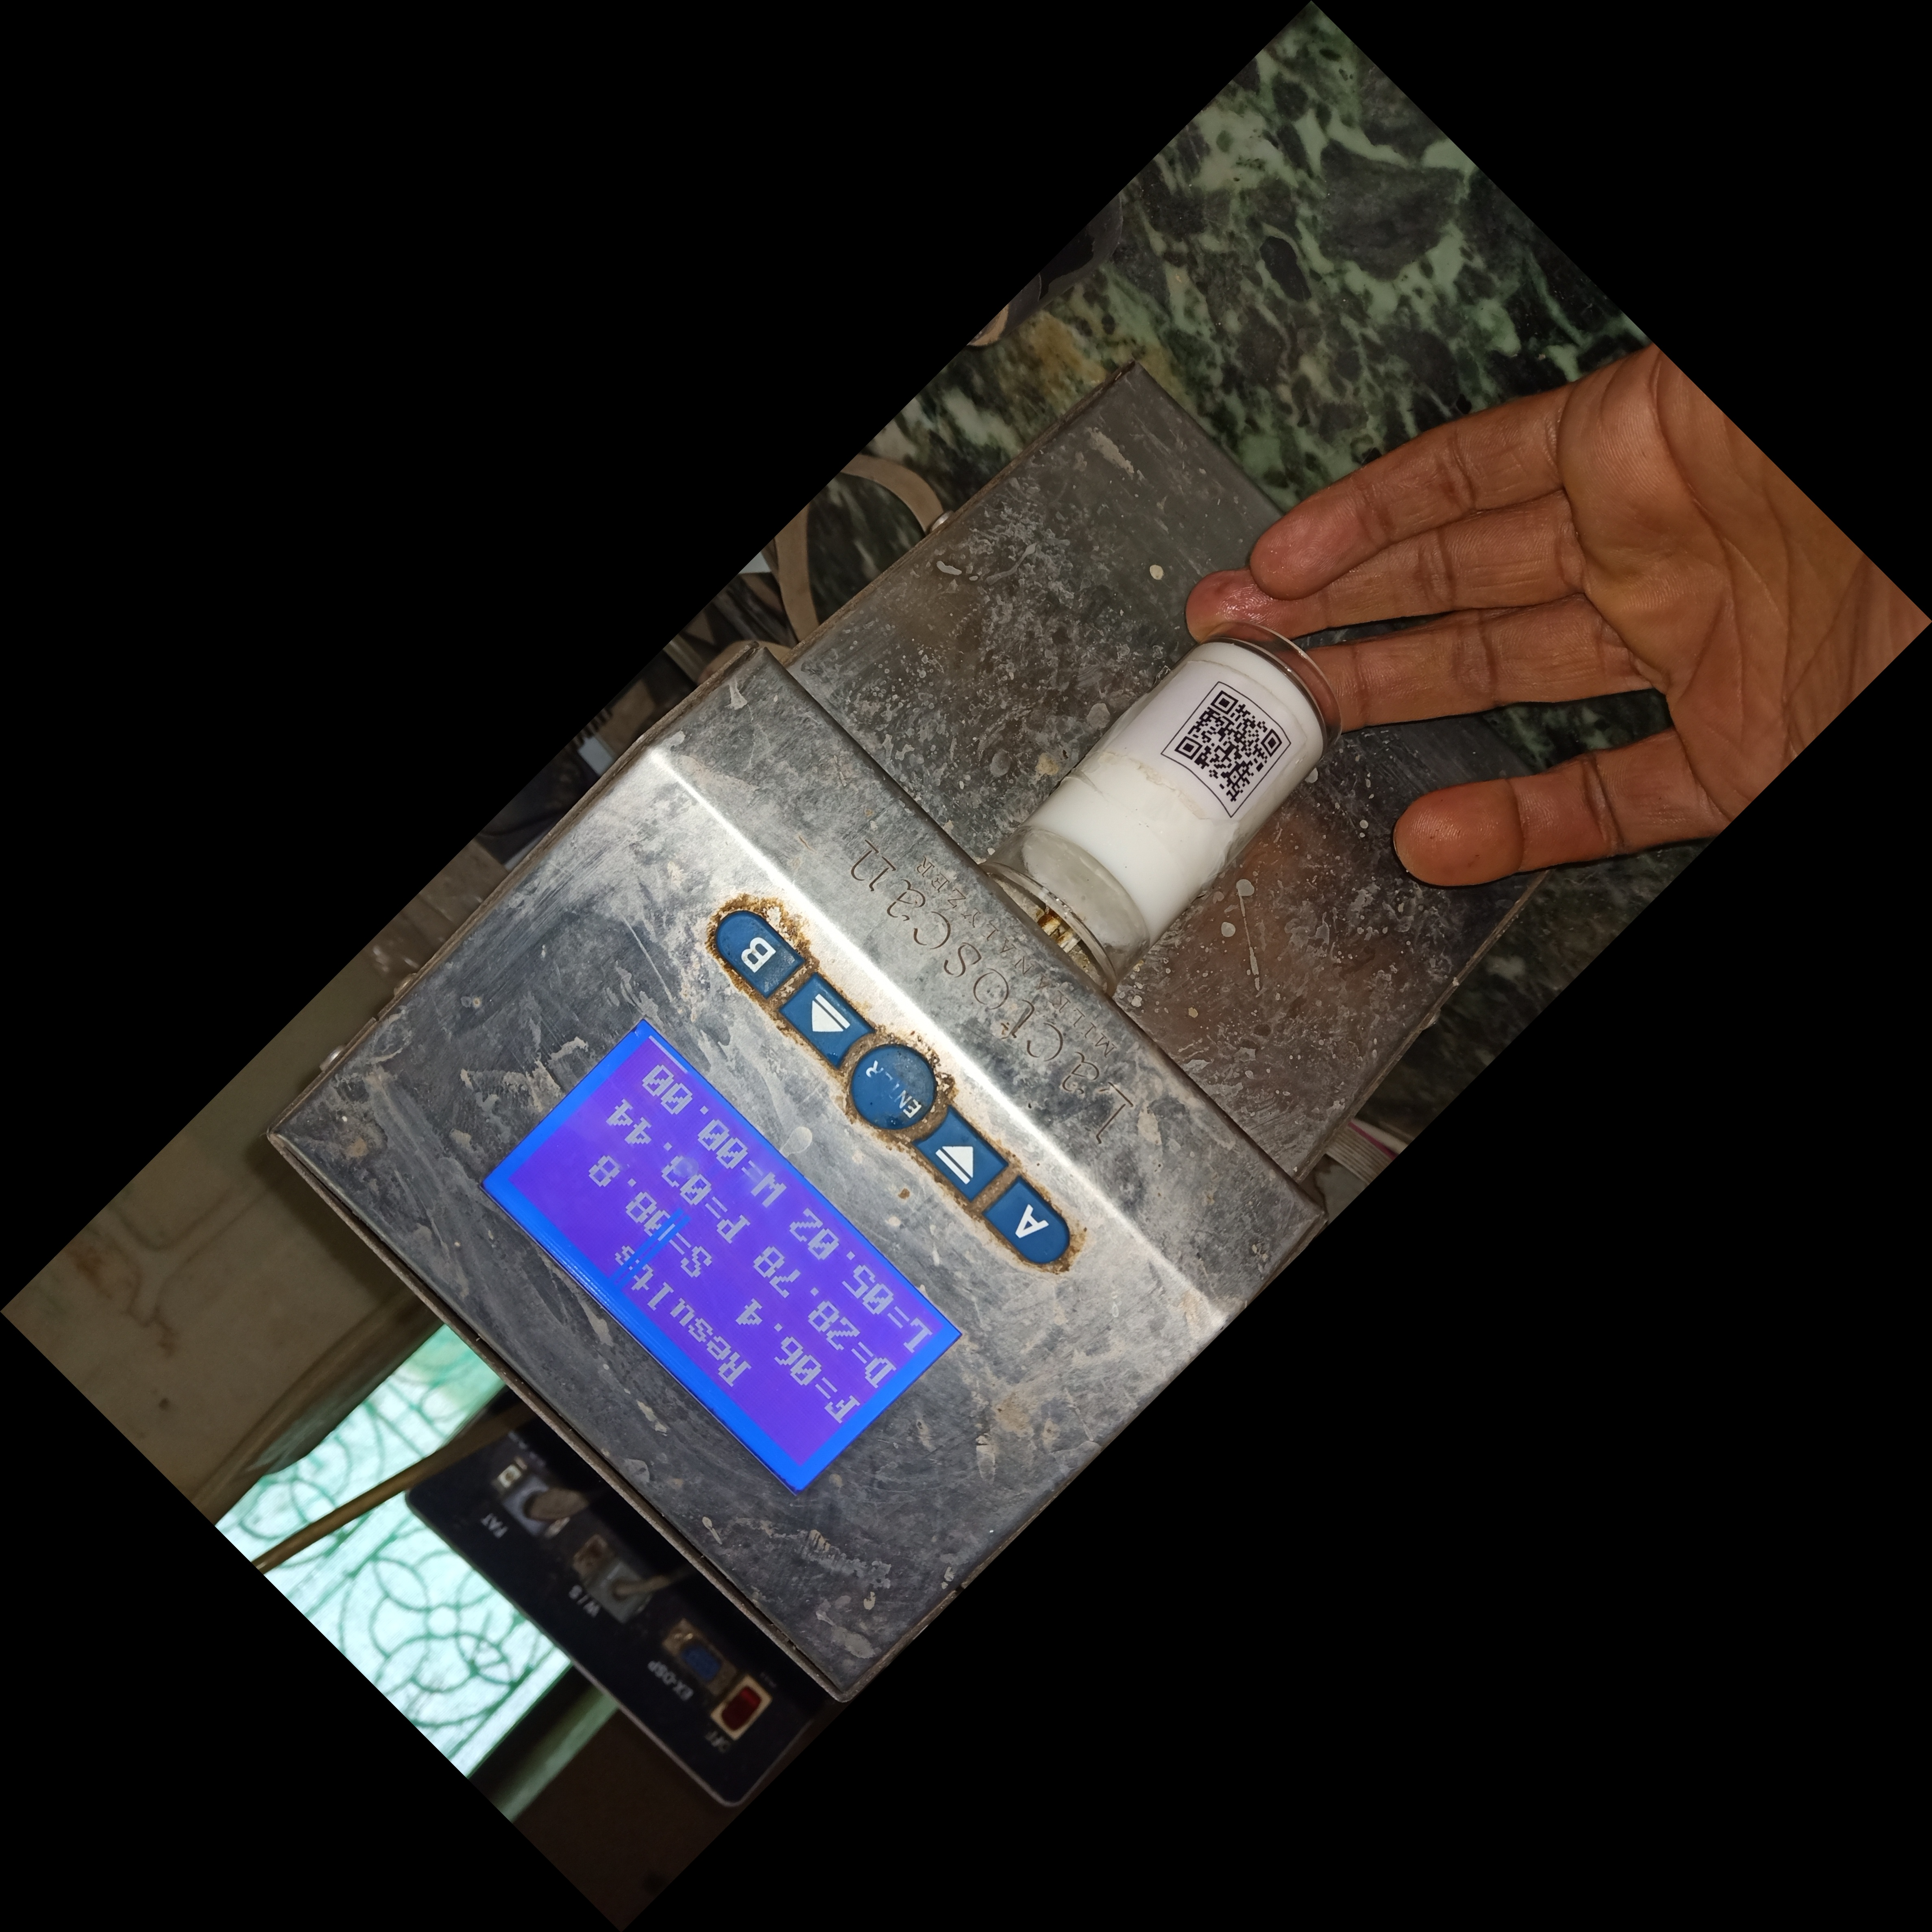lcd: (476, 1014, 973, 1495)
qr: (1161, 676, 1297, 824)
